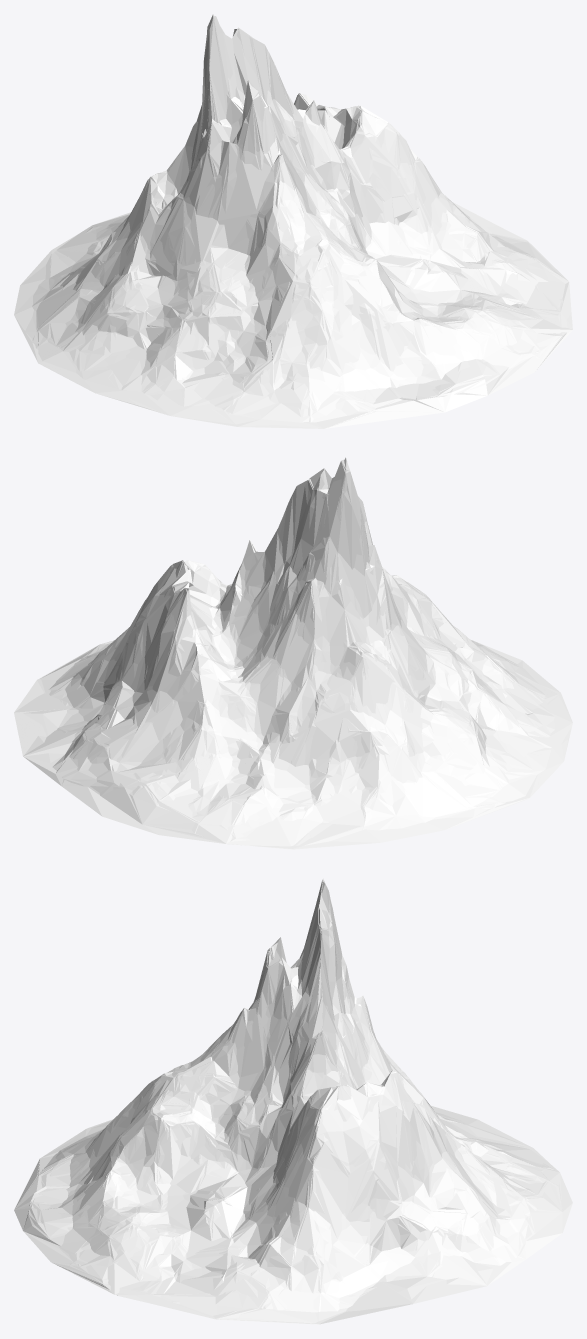
Rendered from Mountain_1_Snowy.fbx.
3 renders of one model, top to bottom at view 1: azimuth 30°, elevation 25°; view 2: azimuth 150°, elevation 25°; view 3: azimuth 270°, elevation 25°, orthographic.
Visible parts, largest first — view 1: Mountain 1_LOD3_Snowy, Mountain 1_LOD0_Snowy, Mountain 1_LOD2_Snowy, Mountain 1_LOD1_Snowy; view 2: Mountain 1_LOD3_Snowy, Mountain 1_LOD0_Snowy, Mountain 1_LOD2_Snowy, Mountain 1_LOD1_Snowy; view 3: Mountain 1_LOD3_Snowy, Mountain 1_LOD0_Snowy, Mountain 1_LOD2_Snowy, Mountain 1_LOD1_Snowy.
Boxes of the visible parts, <box> form: Mountain 1_LOD3_Snowy: <box>14,14,572,428</box>; Mountain 1_LOD0_Snowy: <box>17,16,568,428</box>; Mountain 1_LOD2_Snowy: <box>14,17,571,428</box>; Mountain 1_LOD1_Snowy: <box>37,37,557,426</box>; Mountain 1_LOD3_Snowy: <box>14,457,572,849</box>; Mountain 1_LOD0_Snowy: <box>24,459,571,848</box>; Mountain 1_LOD2_Snowy: <box>23,461,563,849</box>; Mountain 1_LOD1_Snowy: <box>59,504,571,849</box>; Mountain 1_LOD3_Snowy: <box>14,878,572,1324</box>; Mountain 1_LOD0_Snowy: <box>14,880,572,1323</box>; Mountain 1_LOD2_Snowy: <box>28,882,562,1324</box>; Mountain 1_LOD1_Snowy: <box>37,923,561,1308</box>.
Bounding box in the file's own units: 19979 × 11720 × 20006.
